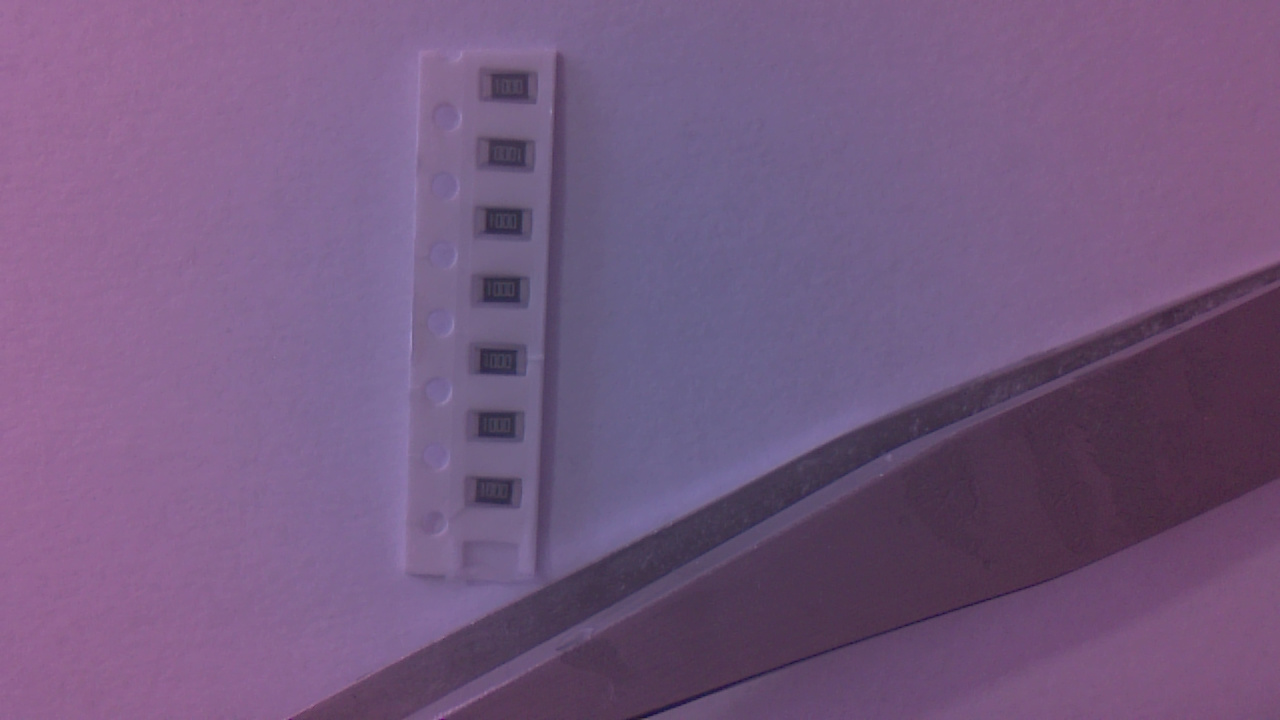Resistor: (468, 413, 529, 451), (475, 348, 535, 383), (483, 75, 545, 108), (471, 480, 527, 516), (482, 142, 543, 175), (477, 277, 535, 311), (480, 211, 535, 242)
